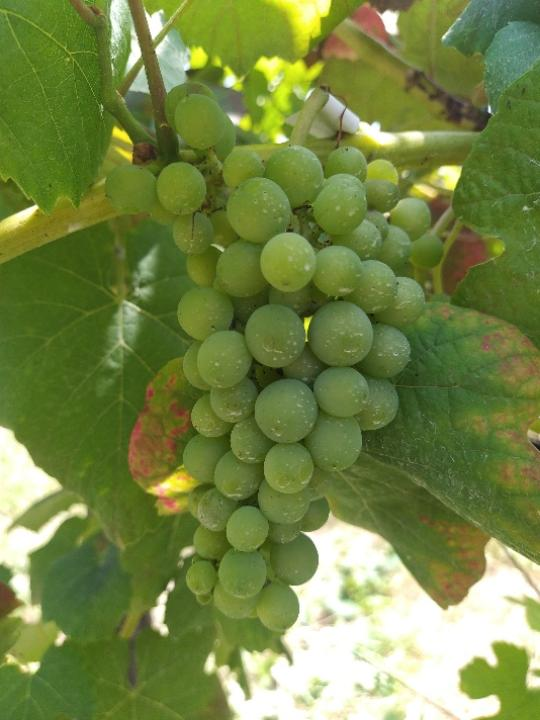grape: (102, 81, 446, 633)
